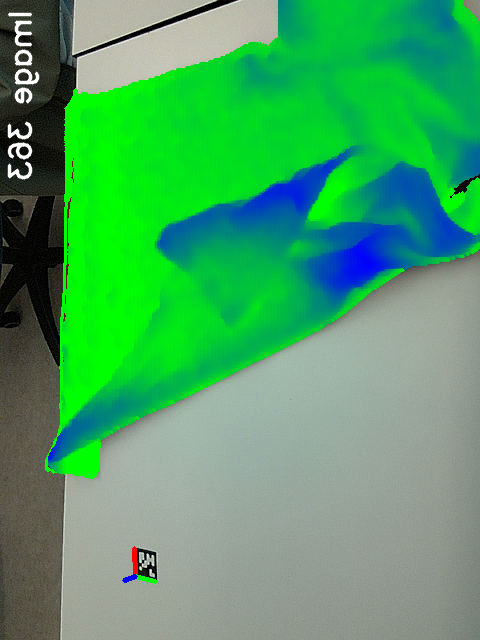V: (208, 291, 256, 335)
